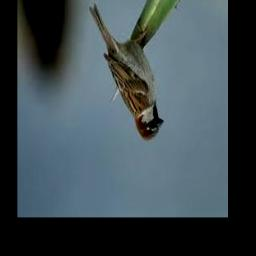Sparrow: (89, 5, 163, 142)
